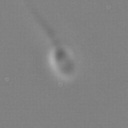normal: (22, 1, 59, 46)
